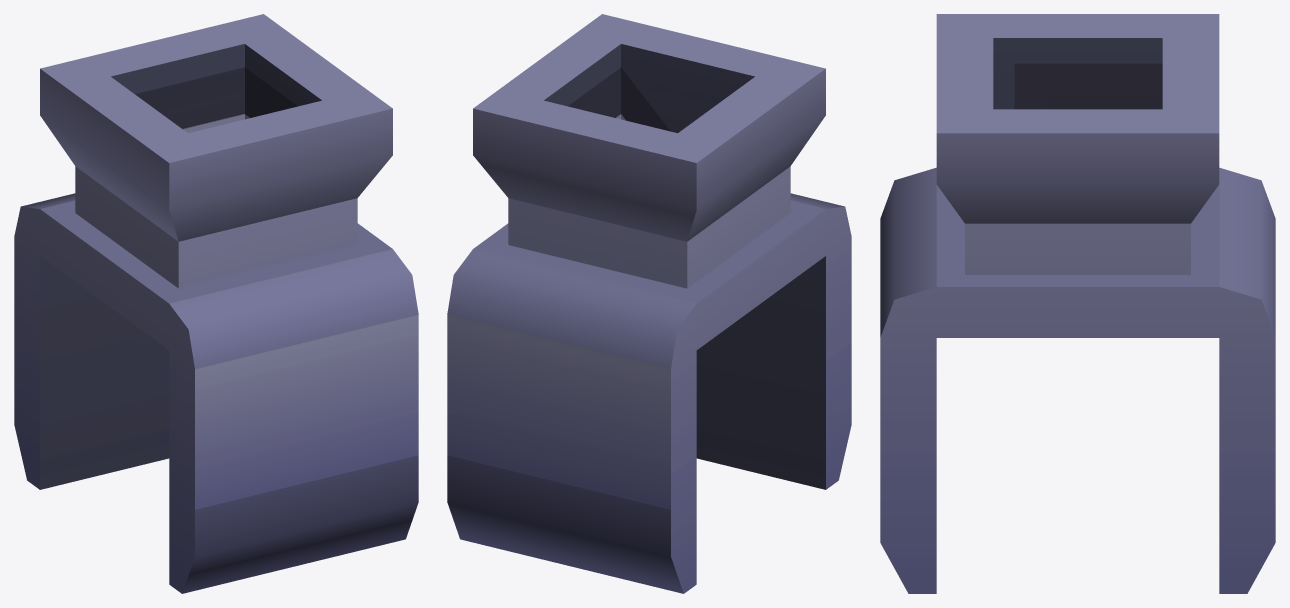
The model's file is kenney-conveyor-cover-hopper.glb.
The picture shows the model from 3 angles, left to right: view 1: azimuth 30°, elevation 25°; view 2: azimuth 150°, elevation 25°; view 3: azimuth 270°, elevation 25°; orthographic projection. The views are drawn at different scales.
Visible parts, largest first — view 1: cover-hopper; view 2: cover-hopper; view 3: cover-hopper.
Boxes of the visible parts, box(x1,y1,x2,y2) form: cover-hopper: box(14, 14, 418, 593); cover-hopper: box(447, 14, 851, 593); cover-hopper: box(880, 14, 1275, 593).
Size of the model in its own units: 1 by 1.8 by 1.4.
Materials: 1 (1 with a texture image).
